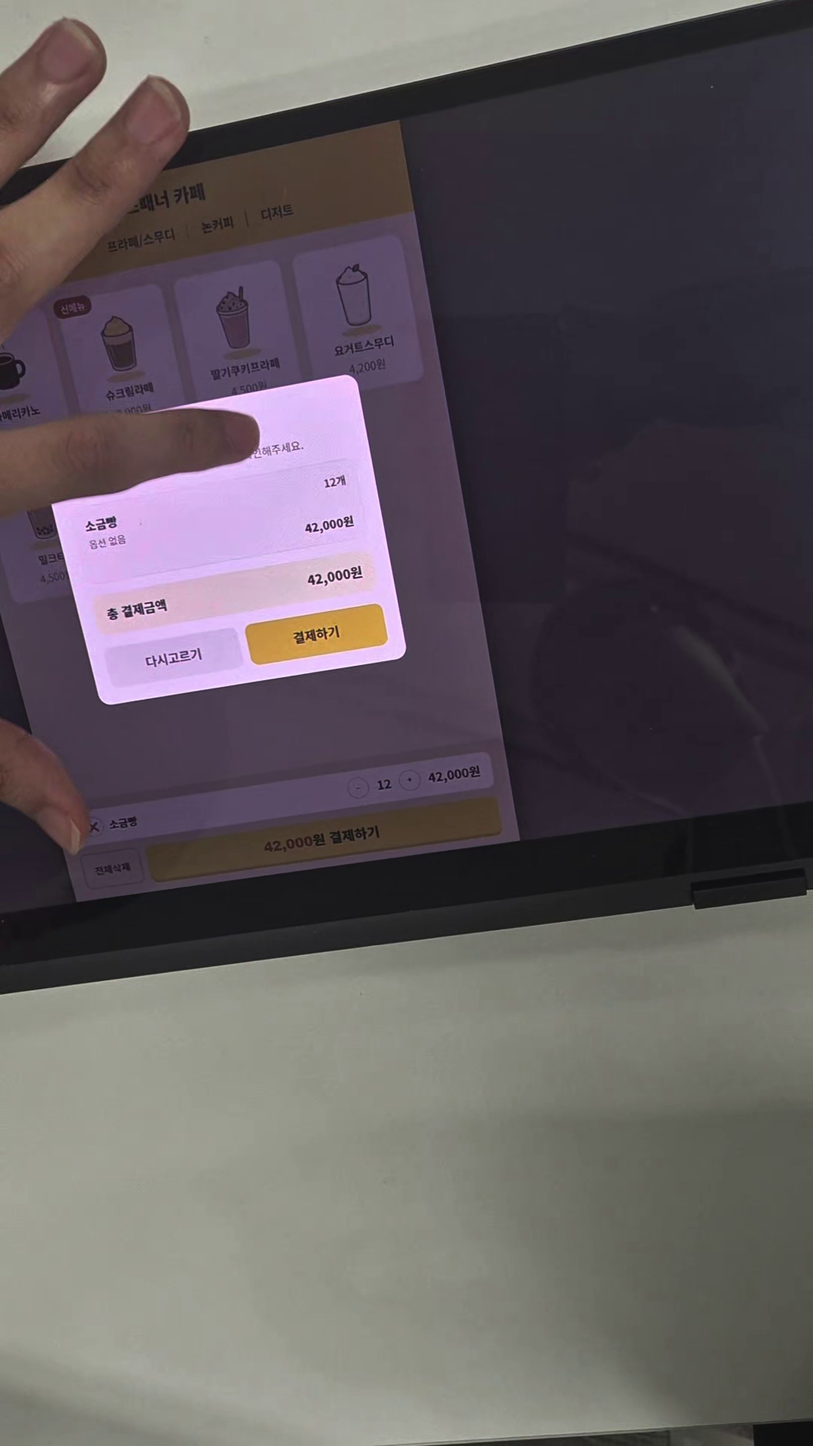action_button: (240, 599, 389, 672), (107, 632, 244, 693)
popup_modal: (34, 372, 404, 712)
